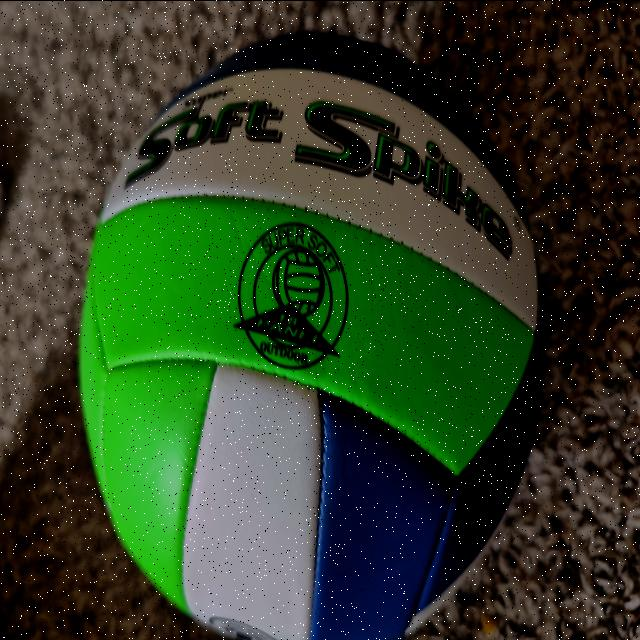ball: (77, 37, 551, 640)
